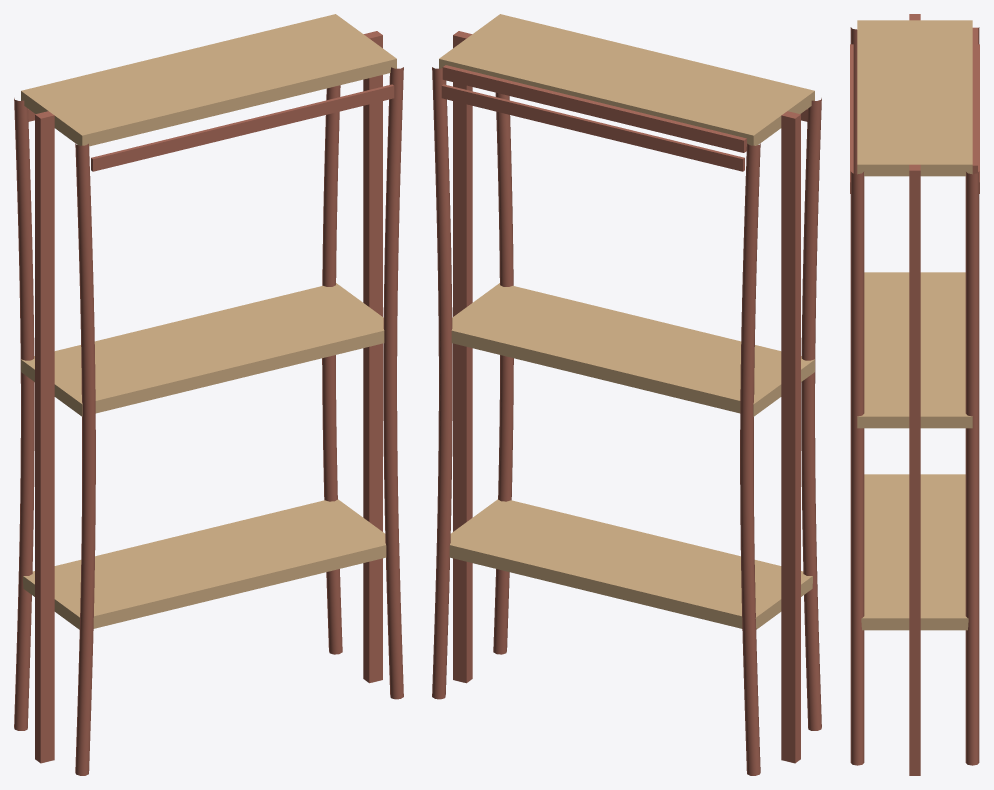
3 views of the same model, side by side, from view 1: azimuth 30°, elevation 25°; view 2: azimuth 150°, elevation 25°; view 3: azimuth 270°, elevation 25° (orthographic). The views are drawn at different scales.
Parts seen in each view (by area): view 1: shelf-board-top, shelf-board-middle, shelf-board-lower, arched-outer-post-left, arched-outer-post-right, arched-side-left-front, arched-side-right-front, arched-side-left-rear, arched-side-right-rear, arched-depth-front-rail; view 2: shelf-board-middle, shelf-board-lower, shelf-board-top, arched-outer-post-left, arched-outer-post-right, arched-side-left-rear, arched-side-right-rear, arched-side-left-front, arched-side-right-front, arched-rear-top-rail, arched-depth-rear-rail; view 3: shelf-board-top, shelf-board-middle, shelf-board-lower, arched-side-right-rear, arched-side-right-front, arched-outer-post-right, arched-rear-top-rail, arched-side-left-front, arched-depth-front-rail, arched-depth-rear-rail.
Part boxes in pixels (<box>): shelf-board-top: <box>21,14,396,146</box>; shelf-board-middle: <box>21,283,384,416</box>; shelf-board-lower: <box>23,499,386,629</box>; arched-outer-post-left: <box>35,111,54,763</box>; arched-outer-post-right: <box>363,31,382,683</box>; arched-side-left-front: <box>75,143,95,775</box>; arched-side-right-front: <box>383,67,403,699</box>; arched-side-left-rear: <box>14,98,34,730</box>; arched-side-right-rear: <box>322,85,342,654</box>; arched-depth-front-rail: <box>91,84,394,171</box>; shelf-board-middle: <box>451,283,814,416</box>; shelf-board-lower: <box>449,499,812,629</box>; shelf-board-top: <box>439,14,814,145</box>; arched-outer-post-left: <box>781,111,800,763</box>; arched-outer-post-right: <box>453,31,472,683</box>; arched-side-left-rear: <box>740,143,760,775</box>; arched-side-right-rear: <box>432,67,452,699</box>; arched-side-left-front: <box>801,98,821,730</box>; arched-side-right-front: <box>493,92,513,654</box>; arched-rear-top-rail: <box>442,65,746,152</box>; arched-depth-rear-rail: <box>441,84,744,171</box>; shelf-board-top: <box>857,20,972,176</box>; shelf-board-middle: <box>857,272,972,428</box>; shelf-board-lower: <box>861,474,968,630</box>; arched-side-right-rear: <box>965,171,979,765</box>; arched-side-right-front: <box>850,171,864,765</box>; arched-outer-post-right: <box>909,164,920,775</box>; arched-rear-top-rail: <box>972,27,977,173</box>; arched-side-left-front: <box>850,27,857,173</box>; arched-depth-front-rail: <box>850,44,853,193</box>; arched-depth-rear-rail: <box>978,44,979,193</box>.
Bounding box in the file's own units: 1 × 1.8 × 0.35.
